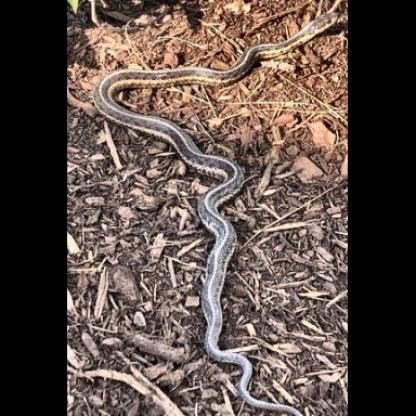Snake: (92, 10, 338, 391)
